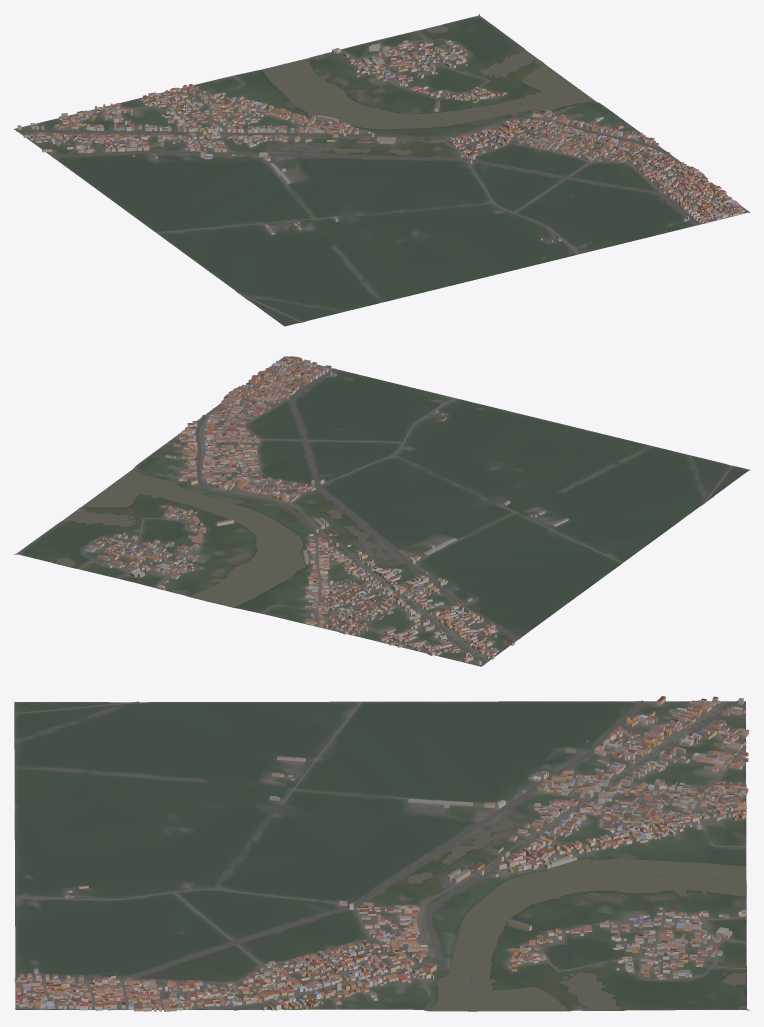
3 renders of one model, top to bottom at view 1: azimuth 30°, elevation 25°; view 2: azimuth 150°, elevation 25°; view 3: azimuth 270°, elevation 25°, orthographic. The views are drawn at different scales.
Parts seen in each view (by area): view 1: ground, buildings, water, roads; view 2: ground, buildings, water, roads; view 3: ground, buildings, water, roads.
Part boxes in pixels (left/top/right/bottom): ground: left=14, top=16, right=749, bottom=326; buildings: left=17, top=40, right=744, bottom=241; water: left=238, top=25, right=595, bottom=322; roads: left=16, top=14, right=747, bottom=254; ground: left=16, top=356, right=749, bottom=666; buildings: left=85, top=356, right=568, bottom=665; water: left=54, top=465, right=733, bottom=607; roads: left=14, top=357, right=622, bottom=665; ground: left=14, top=701, right=746, bottom=1011; buildings: left=14, top=696, right=749, bottom=1011; water: left=14, top=701, right=746, bottom=1011; roads: left=15, top=700, right=749, bottom=1010.
Size of the model in its own units: 1415 by 21.05 by 1410.
